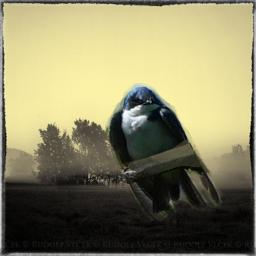Swallow: (105, 83, 225, 227)
